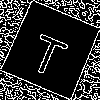T: (26, 24, 73, 79)
